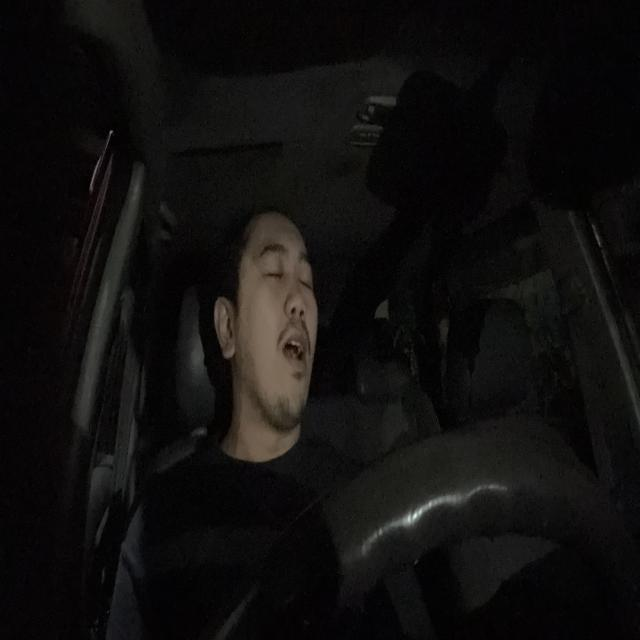close: (258, 240, 290, 295), (296, 248, 314, 294)
